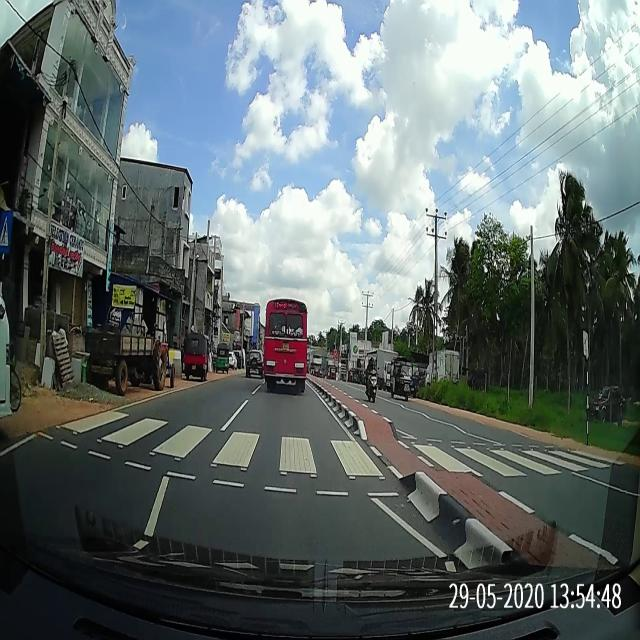Crosswalk: (34, 407, 630, 501)
